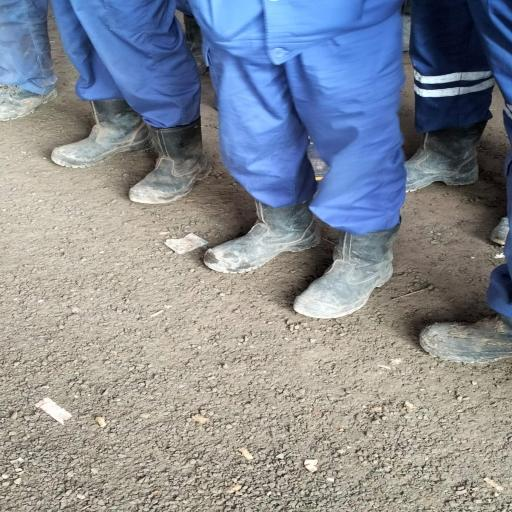safety_shoe: (292, 214, 405, 319), (205, 196, 326, 275), (54, 97, 156, 170), (128, 124, 216, 205), (400, 125, 484, 193), (0, 74, 60, 121)
